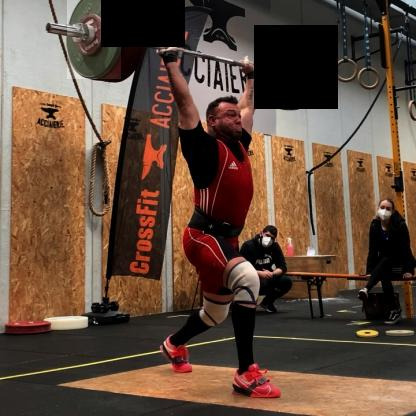barbell: (68, 1, 122, 80), (255, 41, 307, 109)
